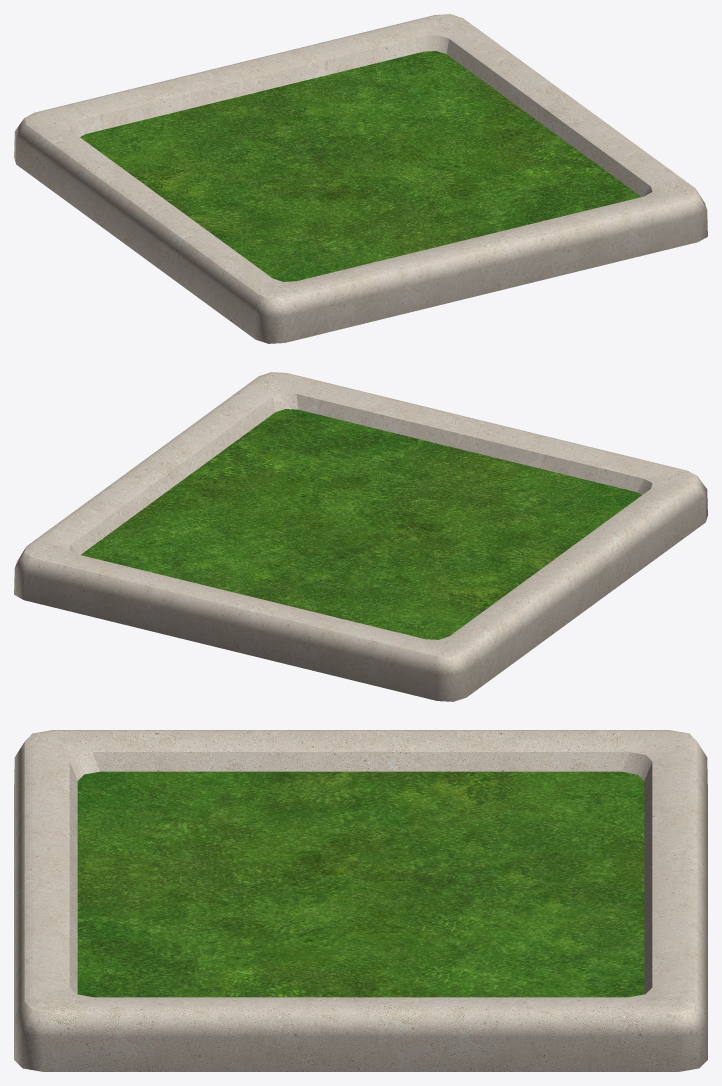
The model's file is chauvuong.fbx.
3 renders of one model, top to bottom at view 1: azimuth 30°, elevation 25°; view 2: azimuth 150°, elevation 25°; view 3: azimuth 270°, elevation 25°, orthographic. The views are drawn at different scales.
Parts seen in each view (by area): view 1: chaucay2; view 2: chaucay2; view 3: chaucay2.
Part boxes in pixels (box(x1,y1,x2,y2)): chaucay2: box(14, 14, 707, 343); chaucay2: box(14, 372, 707, 701); chaucay2: box(14, 730, 707, 1071).
Bounding box in the file's own units: 504 × 45.72 × 506.
